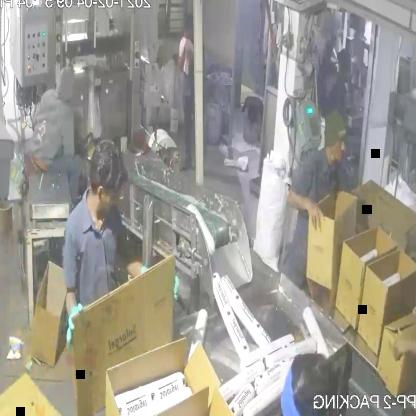no_glove: (281, 182, 333, 232), (383, 326, 416, 369)
